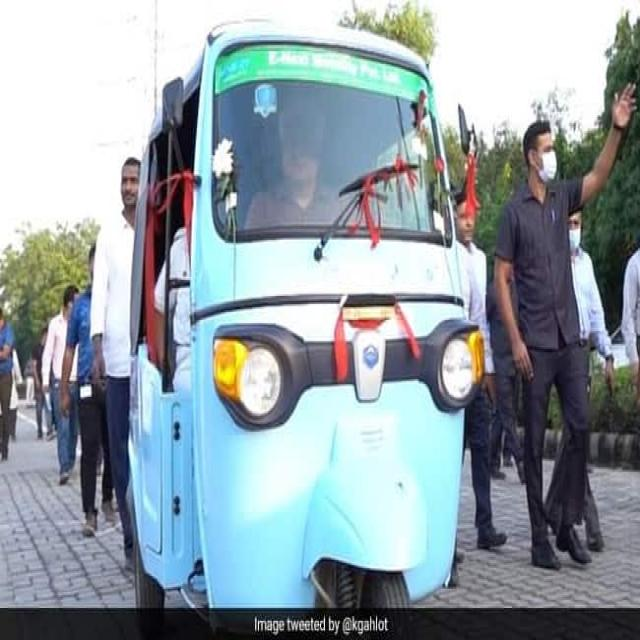autorickshaw: (130, 24, 482, 618)
